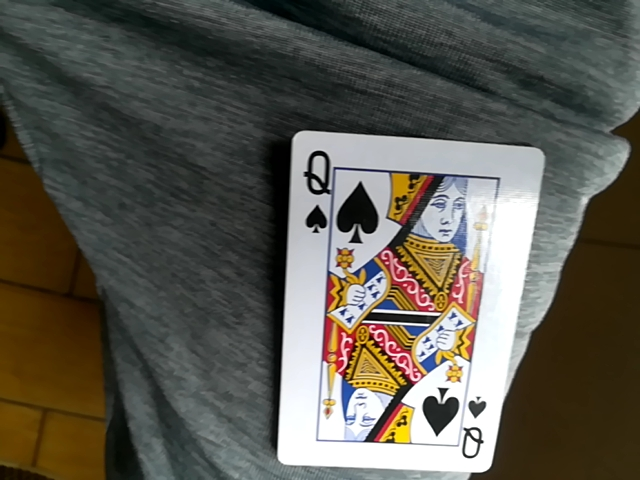ht q: (274, 128, 542, 480)
